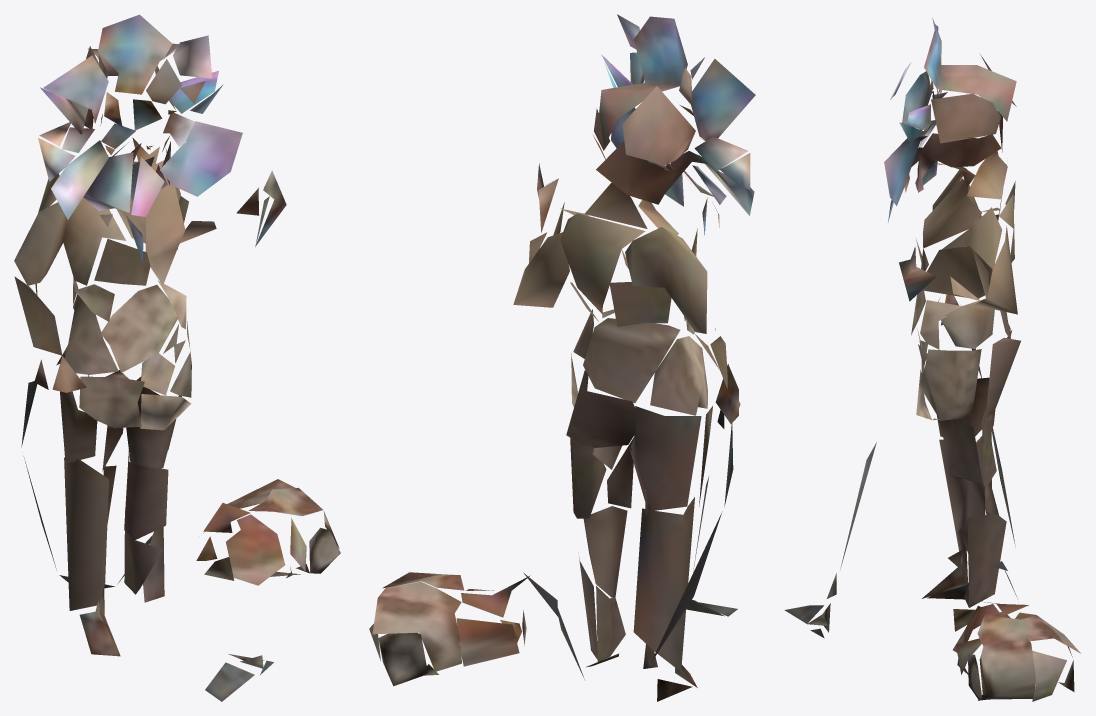
The model's file is cast_felix_far.glb.
3 renders of one model, left to right at view 1: azimuth 30°, elevation 25°; view 2: azimuth 150°, elevation 25°; view 3: azimuth 270°, elevation 25°, orthographic. The views are drawn at different scales.
Visible parts, largest first — view 1: tripo_node_8ef0ef63-db6b-456c-9195-0d16e5945203; view 2: tripo_node_8ef0ef63-db6b-456c-9195-0d16e5945203; view 3: tripo_node_8ef0ef63-db6b-456c-9195-0d16e5945203.
Boxes of the visible parts, x1,y1,x2,y2 form: tripo_node_8ef0ef63-db6b-456c-9195-0d16e5945203: (14,14,340,701); tripo_node_8ef0ef63-db6b-456c-9195-0d16e5945203: (369,14,755,701); tripo_node_8ef0ef63-db6b-456c-9195-0d16e5945203: (784,17,1080,701).
Bounding box in the file's own units: 0.5316 × 0.9894 × 0.4529.
1 material, 1 textured.
